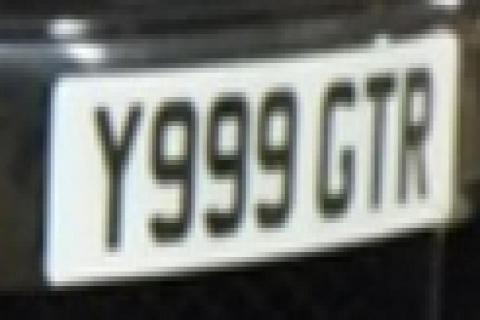LicensePlate: (49, 50, 474, 274)
